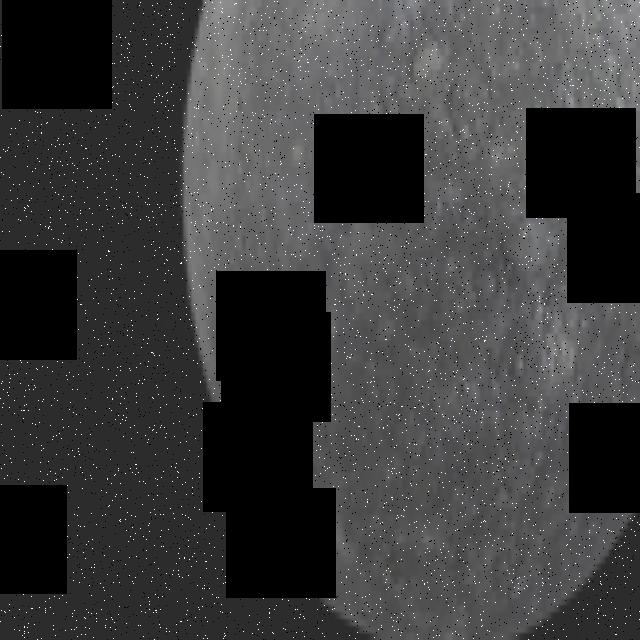Mercury: (183, 0, 640, 640)
